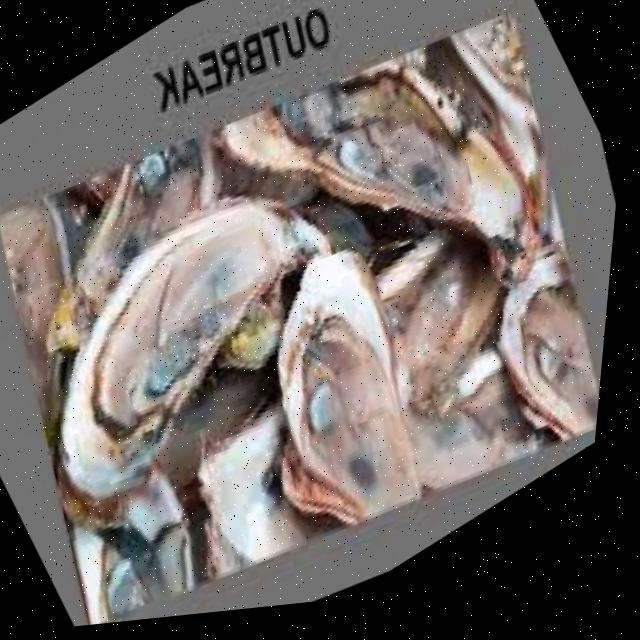Oyster-Closed: (190, 70, 349, 240)
Oyster-Indeterminate: (88, 316, 335, 528), (342, 189, 519, 344)
Oyster-Open: (61, 202, 326, 500), (279, 38, 535, 241), (278, 250, 419, 524), (45, 138, 221, 353), (197, 402, 340, 576), (157, 353, 282, 516), (67, 466, 194, 625), (498, 250, 599, 439), (0, 203, 64, 375), (452, 11, 532, 104)
